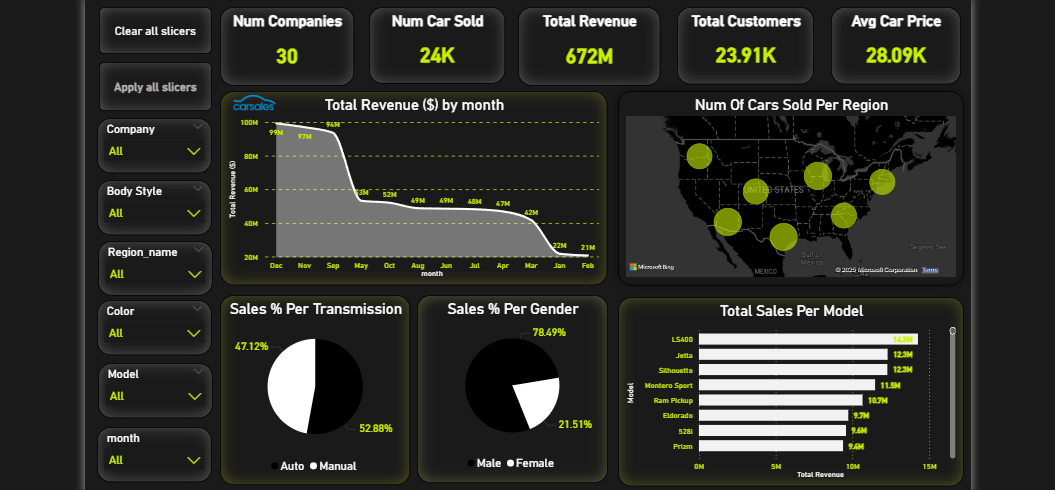

Layout of this report page (visuals, bound fields, positions):
{"tool":"powerbi","page":{"name":"Overview","canvas":[1280,720],"ordinal":1},"visuals":[{"type":"card","title":"Total Revenue","fields":{"Values":["Sum(sales_fact.Price ($))"]},"box":[626.2,13.8,206.2,113.8],"z":0},{"type":"card","title":"Num Car Sold","fields":{"Values":["sales_fact.Total Cars Sold"]},"box":[410.8,13.8,196.9,110.8],"z":1000},{"type":"card","title":"Avg Car Price","fields":{"Values":["Avg(sales_fact.Price ($))"]},"box":[1078.5,13.8,187.7,112.3],"z":2000},{"type":"card","title":"Total Customers","fields":{"Values":["CountNonNull(customer_dim.customer_id)"]},"box":[855.4,13.8,198.5,112.3],"z":3000},{"type":"card","title":"Num Companies","fields":{"Values":["Count(car_dim.Company)"]},"box":[195.4,13.8,193.8,113.8],"z":4000},{"type":"clusteredBarChart","title":"Total Sales Per Model","fields":{"Category":["car_dim.Company Hierarchy.Body Style","car_dim.Company Hierarchy.Model","car_dim.Company Hierarchy.Color"],"Y":["Sum(sales_fact.Price ($))"]},"box":[770.9,433.7,500,274.4],"z":5000},{"type":"map","title":"Num Of Cars Sold Per Region","fields":{"Category":["region_dim.Region_name"],"Size":["CountNonNull(sales_fact.Car_id)"]},"box":[770.9,136,500,281.4],"z":6000},{"type":"lineChart","fields":{"Category":["Date_dim.Date Hierarchy.Year","Date_dim.Date Hierarchy.QuarterName","Date_dim.Date Hierarchy.month","Date_dim.Date Hierarchy.DayOfWeek"],"Y":["Sum(sales_fact.Price ($))"]},"box":[195.3,136,560.5,281.4],"z":7000},{"type":"pieChart","title":"Sales % Per Transmission","fields":{"Category":["car_dim.Transmission"],"Y":["Sum(sales_fact.Price ($))"]},"box":[195.4,430.8,275.4,275.4],"z":8000},{"type":"pieChart","title":"Sales % Per Gender","fields":{"Category":["customer_dim.Gender"],"Y":["Sum(sales_fact.Price ($))"]},"box":[480.2,431.4,275.6,272.1],"z":9000},{"type":"slicer","title":"Company","fields":{"Values":["car_dim.Company"]},"box":[17.2,174.9,166.3,80.2],"z":10000},{"type":"slicer","fields":{"Values":["car_dim.Color"]},"box":[17.7,437.4,166,80.2],"z":11000},{"type":"slicer","fields":{"Values":["car_dim.Body Style"]},"box":[17.2,264.4,166.3,80.2],"z":12000},{"type":"slicer","fields":{"Values":["car_dim.Model"]},"box":[18.8,529.3,166,80.2],"z":13000},{"type":"slicer","fields":{"Values":["Date_dim.month"]},"box":[17.7,622.3,166.3,80.2],"z":14000},{"type":"slicer","fields":{"Values":["region_dim.Region_name"]},"box":[18.8,352.6,166,79.1],"z":15000},{"type":"actionButton","box":[20,93.8,163.1,70.8],"z":16000},{"type":"actionButton","box":[20,13.8,163.1,67.7],"z":17000},{"type":"image","box":[209.3,116.3,70.9,73.3],"z":18000}]}

Visuals, with their boxes on the page's 1280x720 design canvas (x1, y1, x2, y2). These are canvas units, not pixel positions in the 1055x490 screenshot, which may show the page scaled, cropped or inside an application window:
"Total Revenue" card: x1=626, y1=14, x2=832, y2=128
"Num Car Sold" card: x1=411, y1=14, x2=608, y2=125
"Avg Car Price" card: x1=1078, y1=14, x2=1266, y2=126
"Total Customers" card: x1=855, y1=14, x2=1054, y2=126
"Num Companies" card: x1=195, y1=14, x2=389, y2=128
"Total Sales Per Model" clusteredBarChart: x1=771, y1=434, x2=1271, y2=708
"Num Of Cars Sold Per Region" map: x1=771, y1=136, x2=1271, y2=417
lineChart - Date_dim.Date Hierarchy.Year x Date_dim.Date Hierarchy.QuarterName: x1=195, y1=136, x2=756, y2=417
"Sales % Per Transmission" pieChart: x1=195, y1=431, x2=471, y2=706
"Sales % Per Gender" pieChart: x1=480, y1=431, x2=756, y2=704
"Company" slicer: x1=17, y1=175, x2=184, y2=255
slicer - car_dim.Color: x1=18, y1=437, x2=184, y2=518
slicer - car_dim.Body Style: x1=17, y1=264, x2=184, y2=345
slicer - car_dim.Model: x1=19, y1=529, x2=185, y2=610
slicer - Date_dim.month: x1=18, y1=622, x2=184, y2=702
slicer - region_dim.Region_name: x1=19, y1=353, x2=185, y2=432
actionButton: x1=20, y1=94, x2=183, y2=165
actionButton: x1=20, y1=14, x2=183, y2=82
image: x1=209, y1=116, x2=280, y2=190
